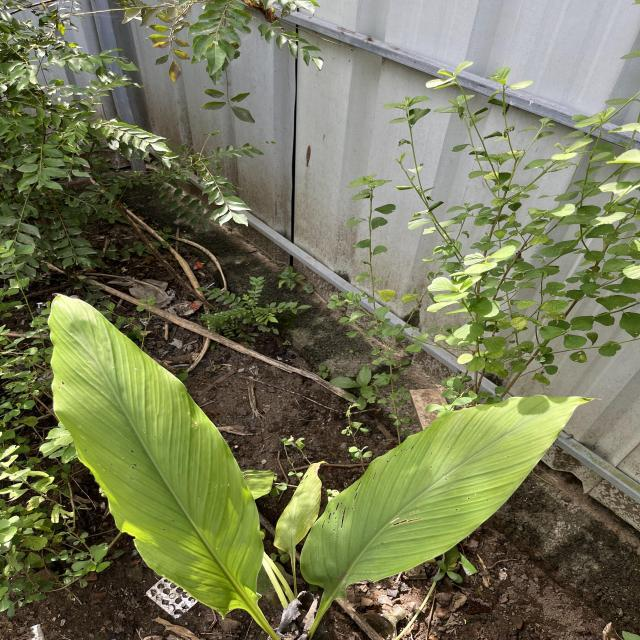Curcuma longa: (38, 284, 267, 620), (294, 388, 600, 598)
